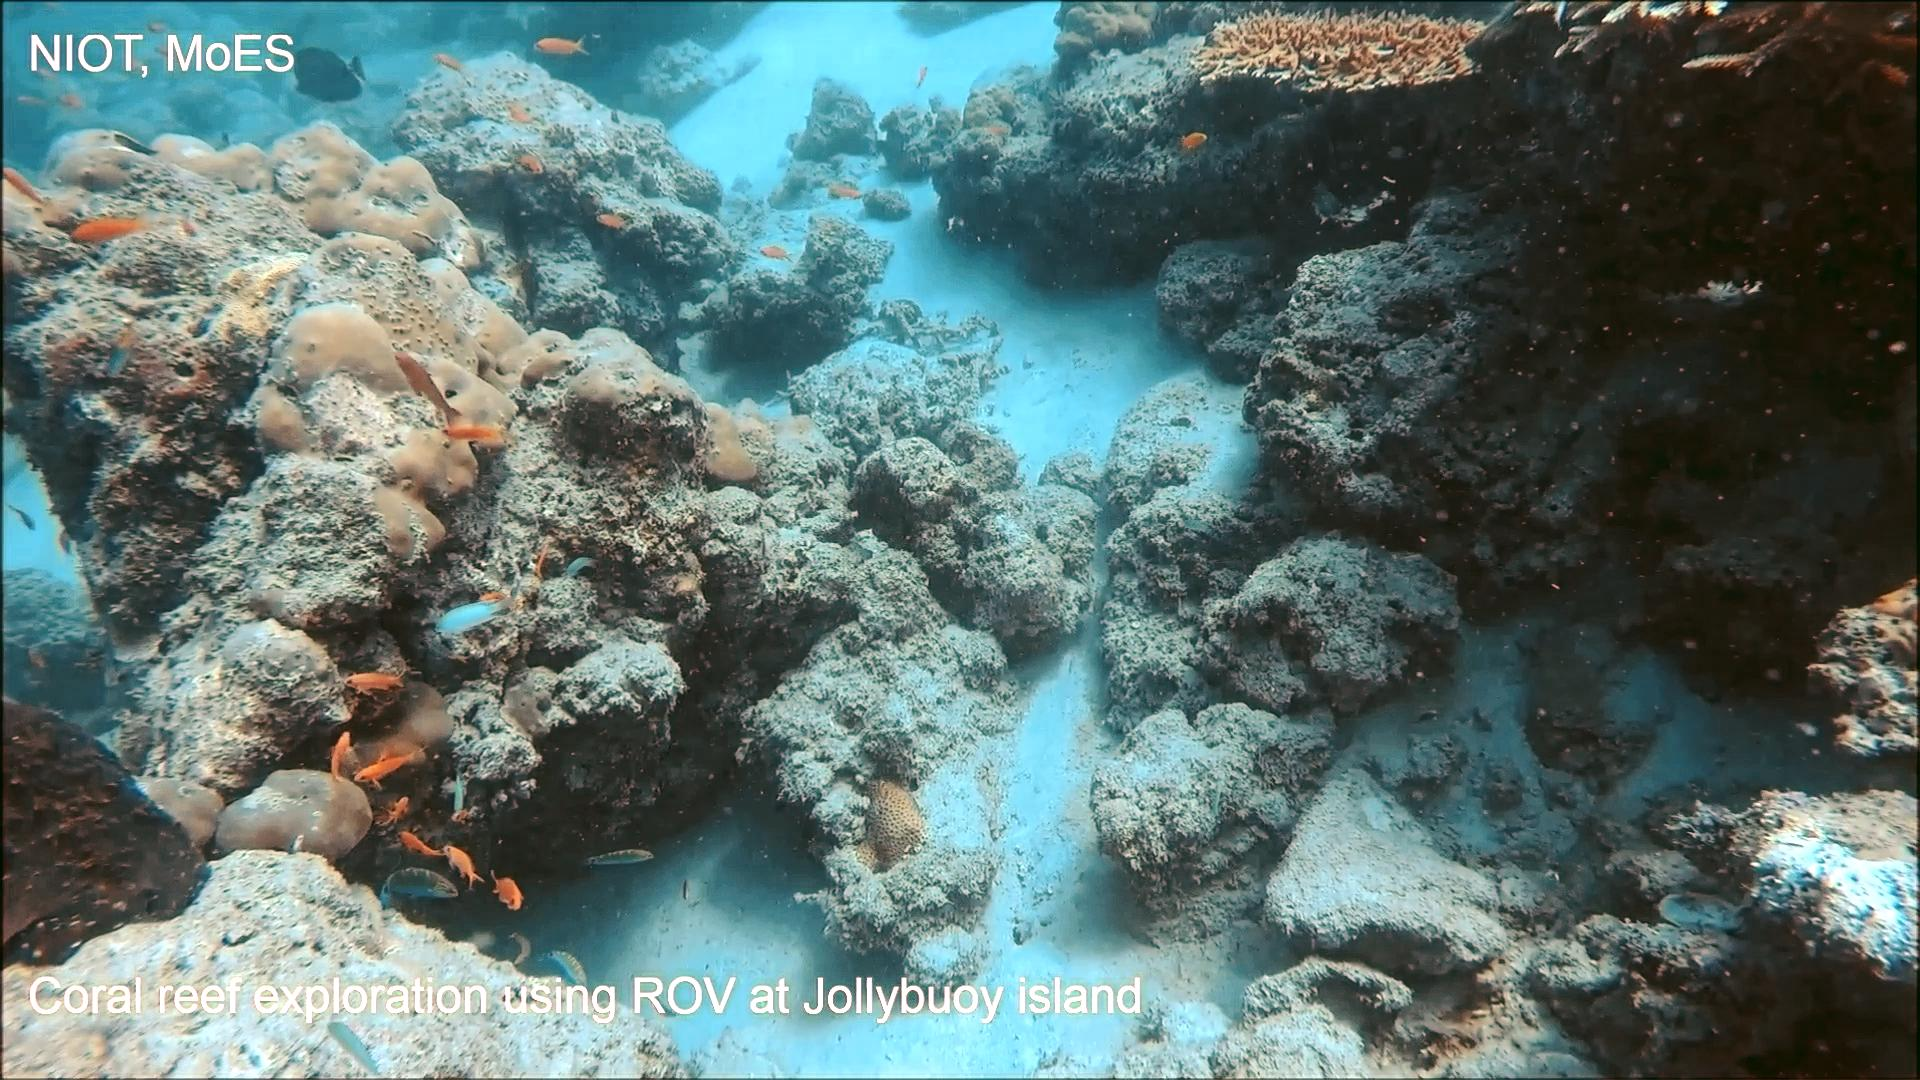Porites-Porites pukoensis: (239, 116, 583, 570)
